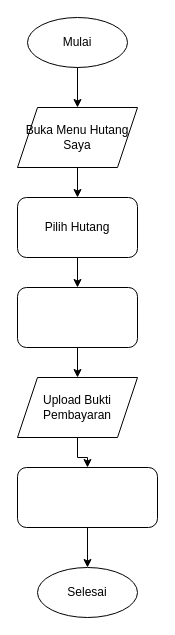
Image size: 175x635. Some labels were removed from this diagram. Each missing label, with the centre of its shape:
"Klik Bayar" belongs at (77,317).
"Ubah Status Menunggu Verifikasi" belongs at (87,497).
